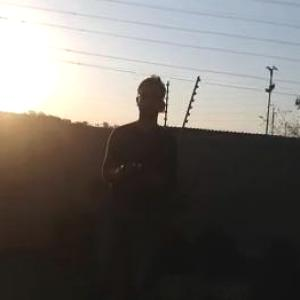follow: (96, 71, 181, 299)
